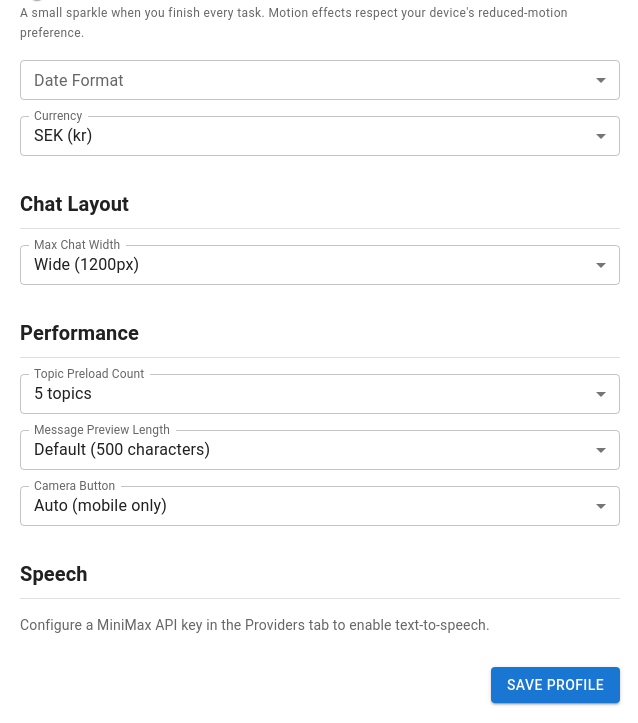
Test: Settings page › shows "Settings saved successfully" after save
(page scrolled)
Click the button "Save Profile".
click(556, 685)  # box x1=491 y1=667 x2=620 y2=703
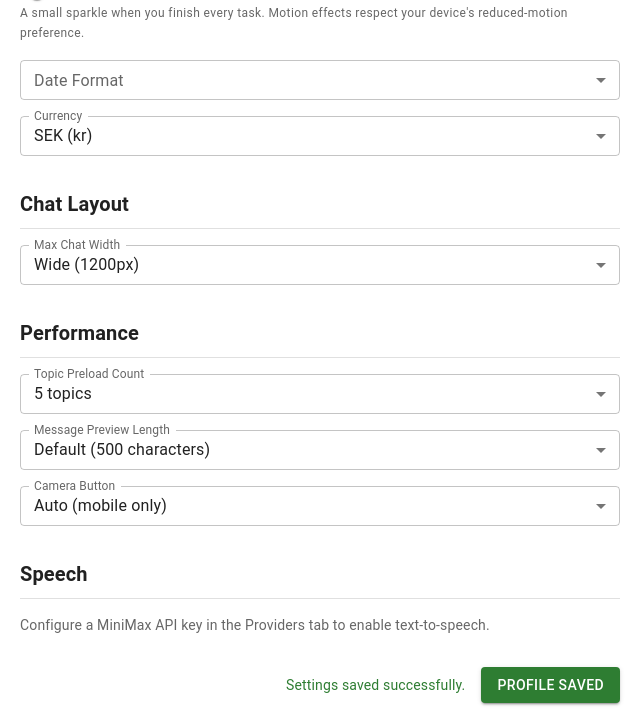
Check: the text "Settings saved successfully." is shown, box x1=286 y1=675 x2=466 y2=695
